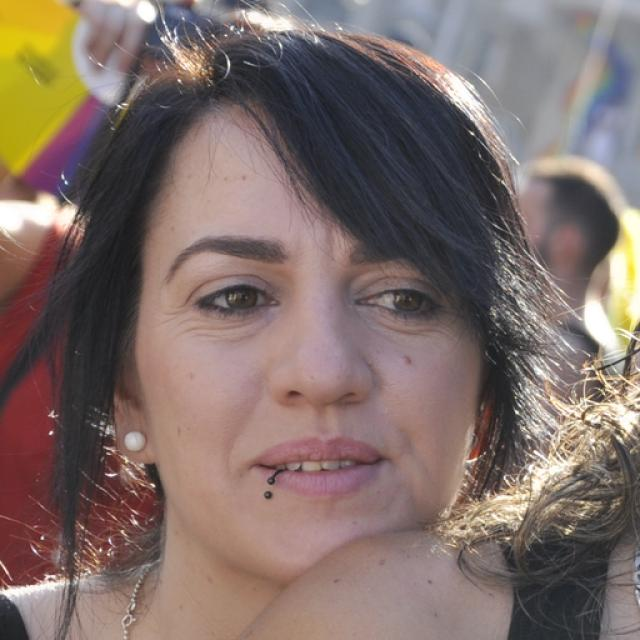Acne: (399, 353, 416, 371)
